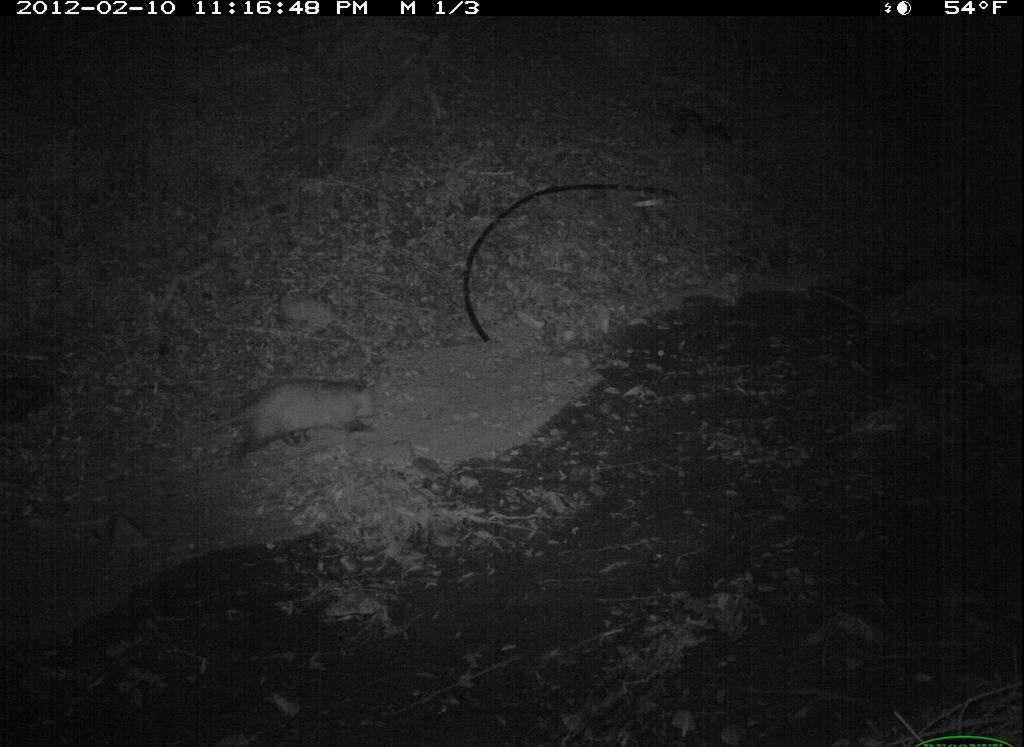opossum: (184, 373, 381, 475)
